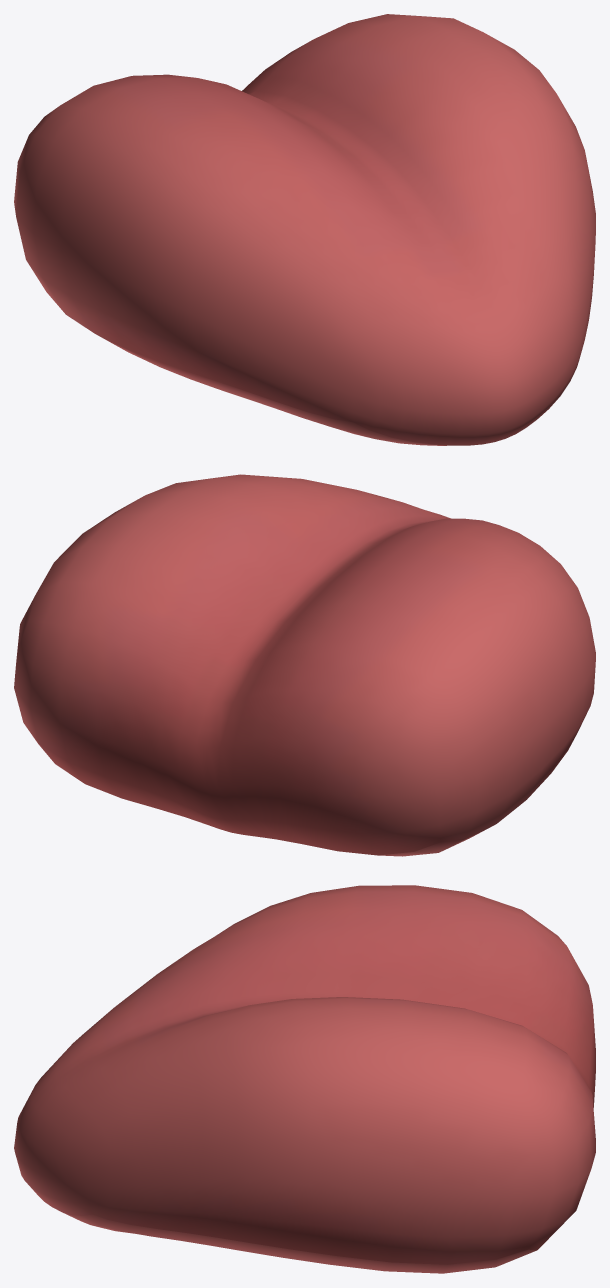
The model's file is tongue1.glb.
3 views of the same model, one above another, from view 1: azimuth 30°, elevation 25°; view 2: azimuth 150°, elevation 25°; view 3: azimuth 270°, elevation 25° (orthographic). The views are drawn at different scales.
Visible parts, largest first — view 1: tongue.001; view 2: tongue.001; view 3: tongue.001.
Boxes of the visible parts, left/top/right/bottom form: tongue.001: left=14, top=14, right=595, bottom=445; tongue.001: left=14, top=474, right=595, bottom=856; tongue.001: left=14, top=885, right=595, bottom=1273.
Bounding box in the file's own units: 0.398 × 0.199 × 0.4293.
Materials: 1 (1 with a texture image).
